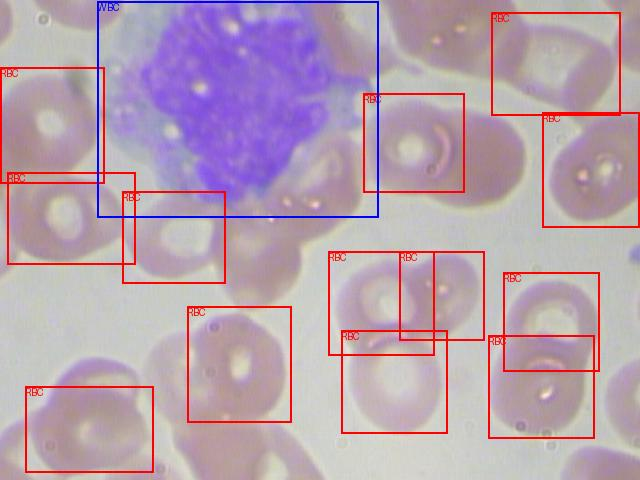RBC: (491, 12, 620, 115), (0, 67, 104, 183), (187, 306, 291, 422), (7, 172, 135, 264), (542, 112, 639, 227), (328, 251, 434, 355), (25, 386, 153, 472), (488, 335, 594, 438), (341, 330, 447, 433), (363, 93, 464, 192), (503, 272, 599, 371), (122, 191, 225, 283), (399, 251, 484, 340)
WBC: (97, 1, 378, 217)
